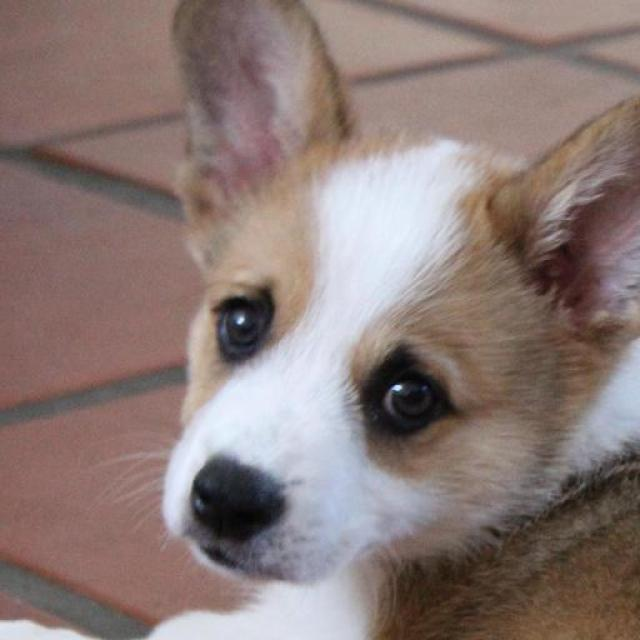sad: (149, 0, 640, 635)
